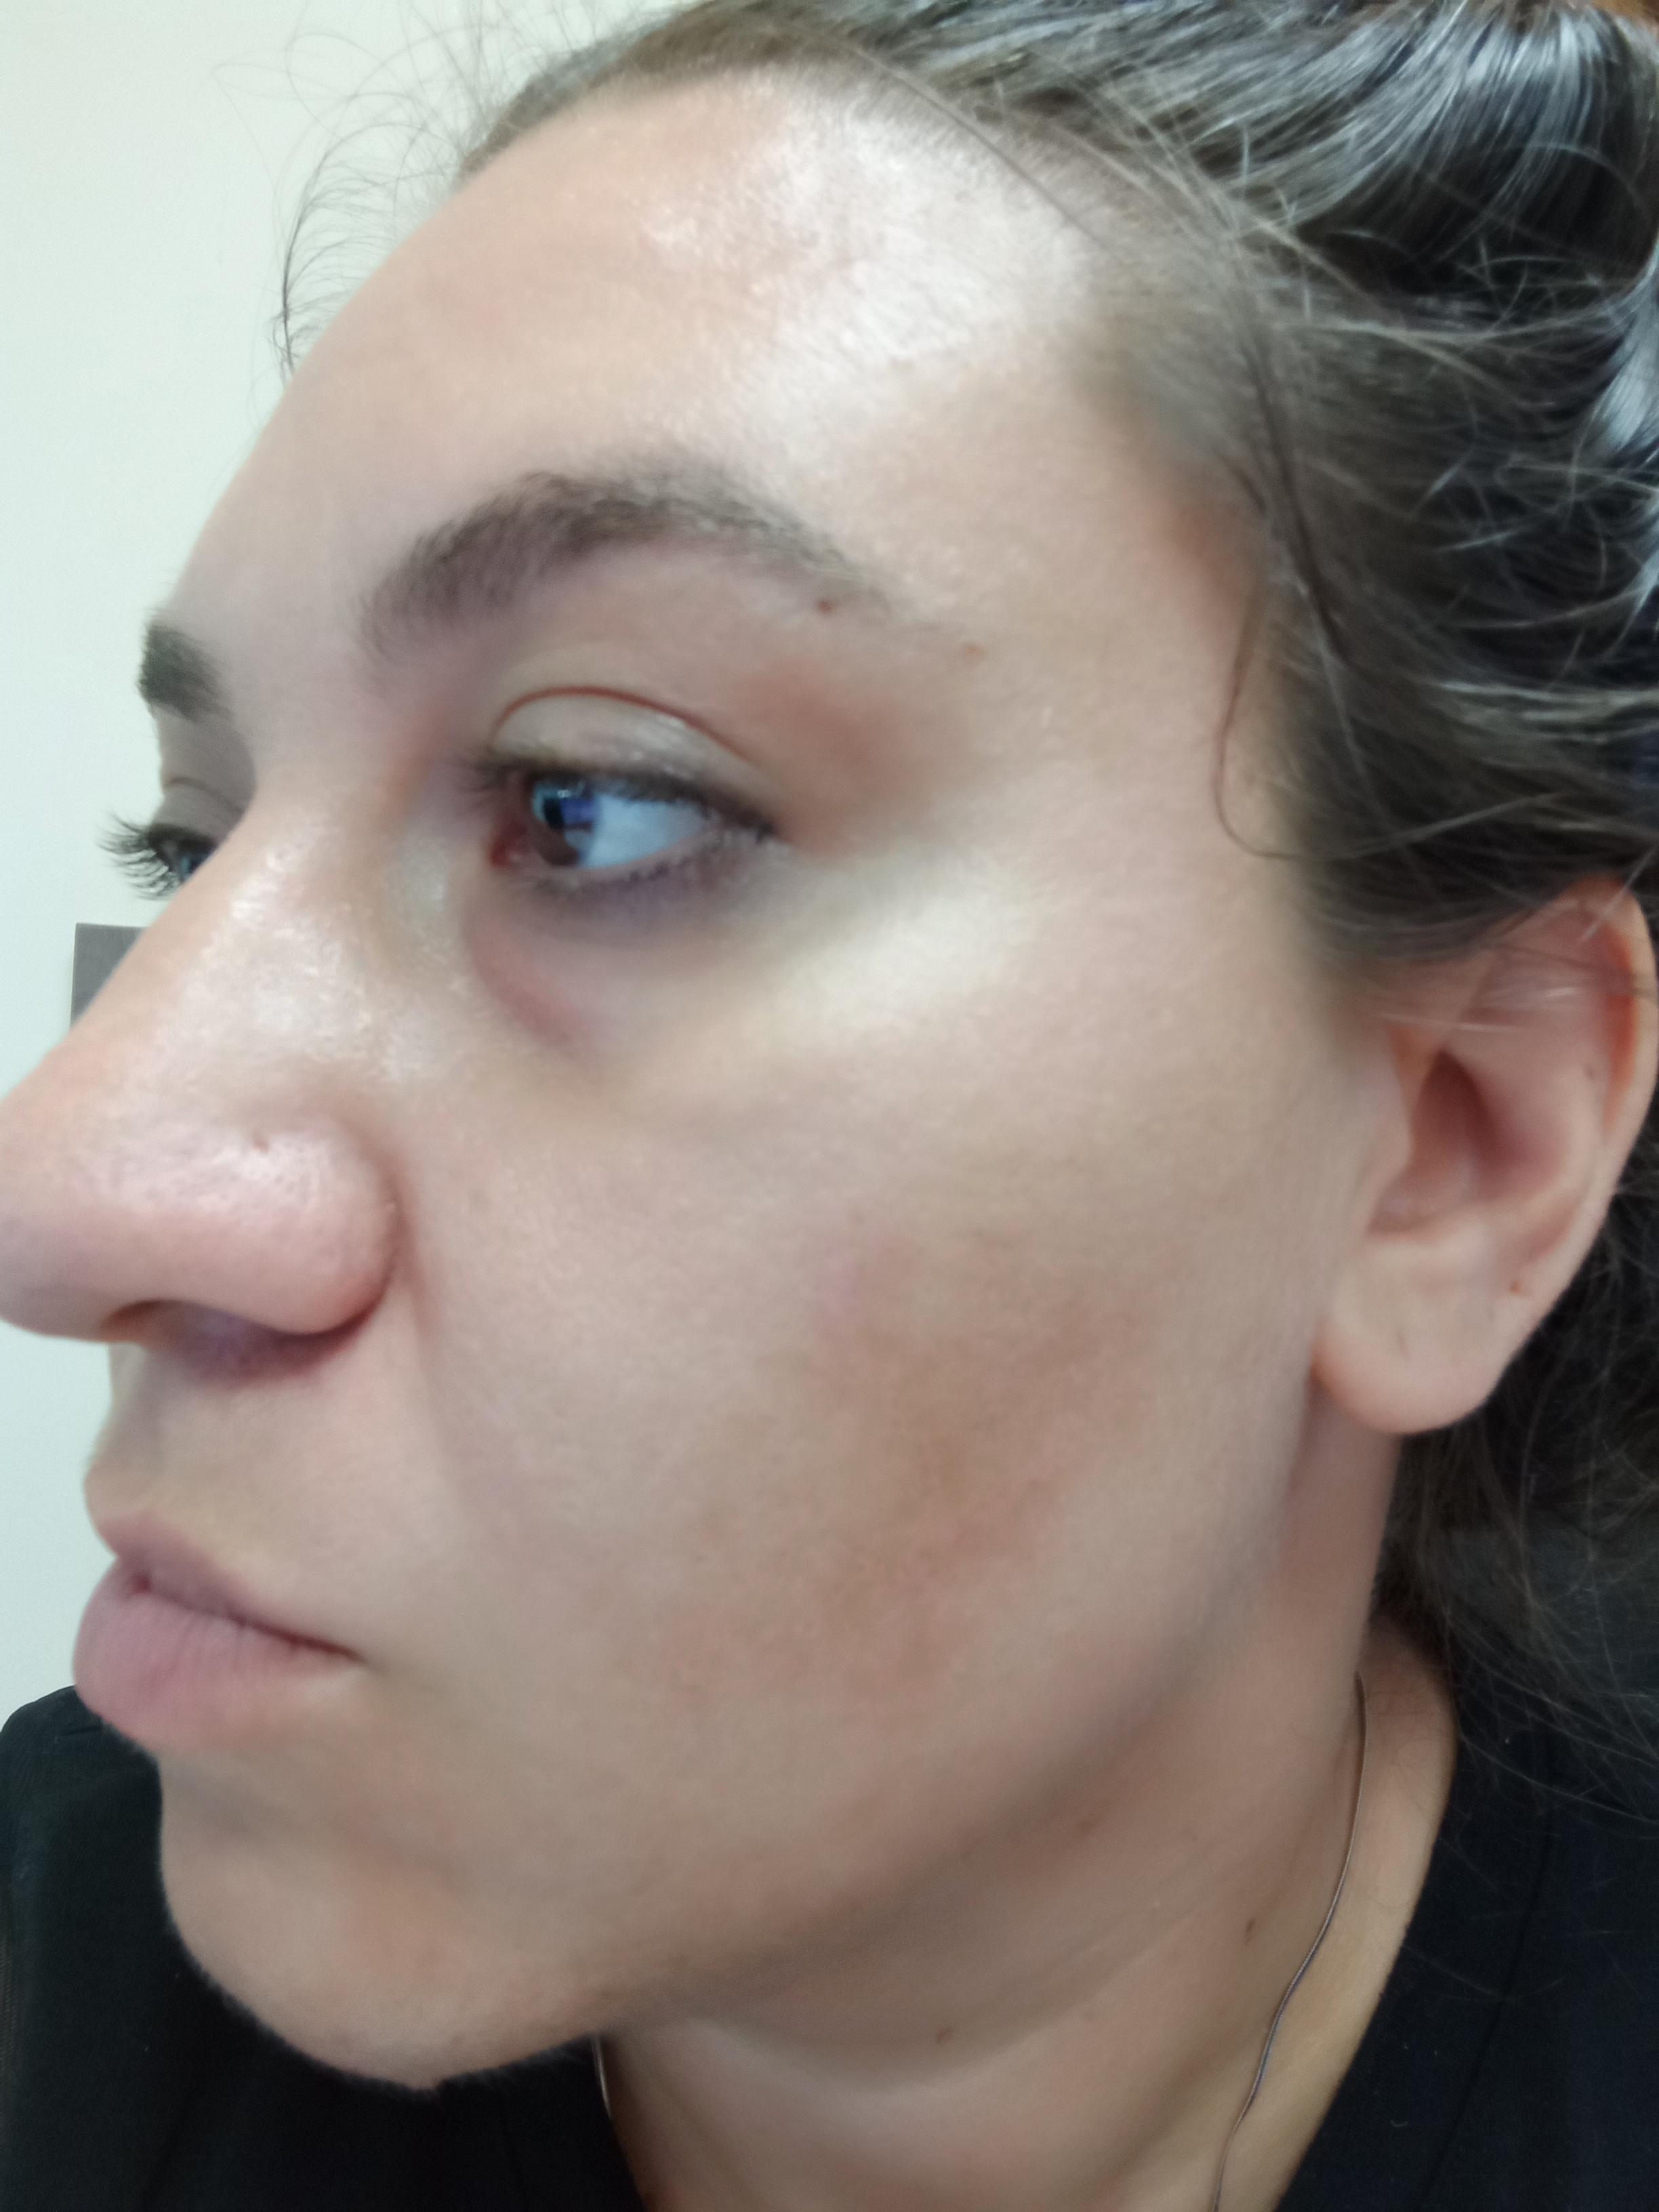Englarged-Pores: (66, 1064, 364, 1249)
Eyebags: (441, 900, 793, 1061)
